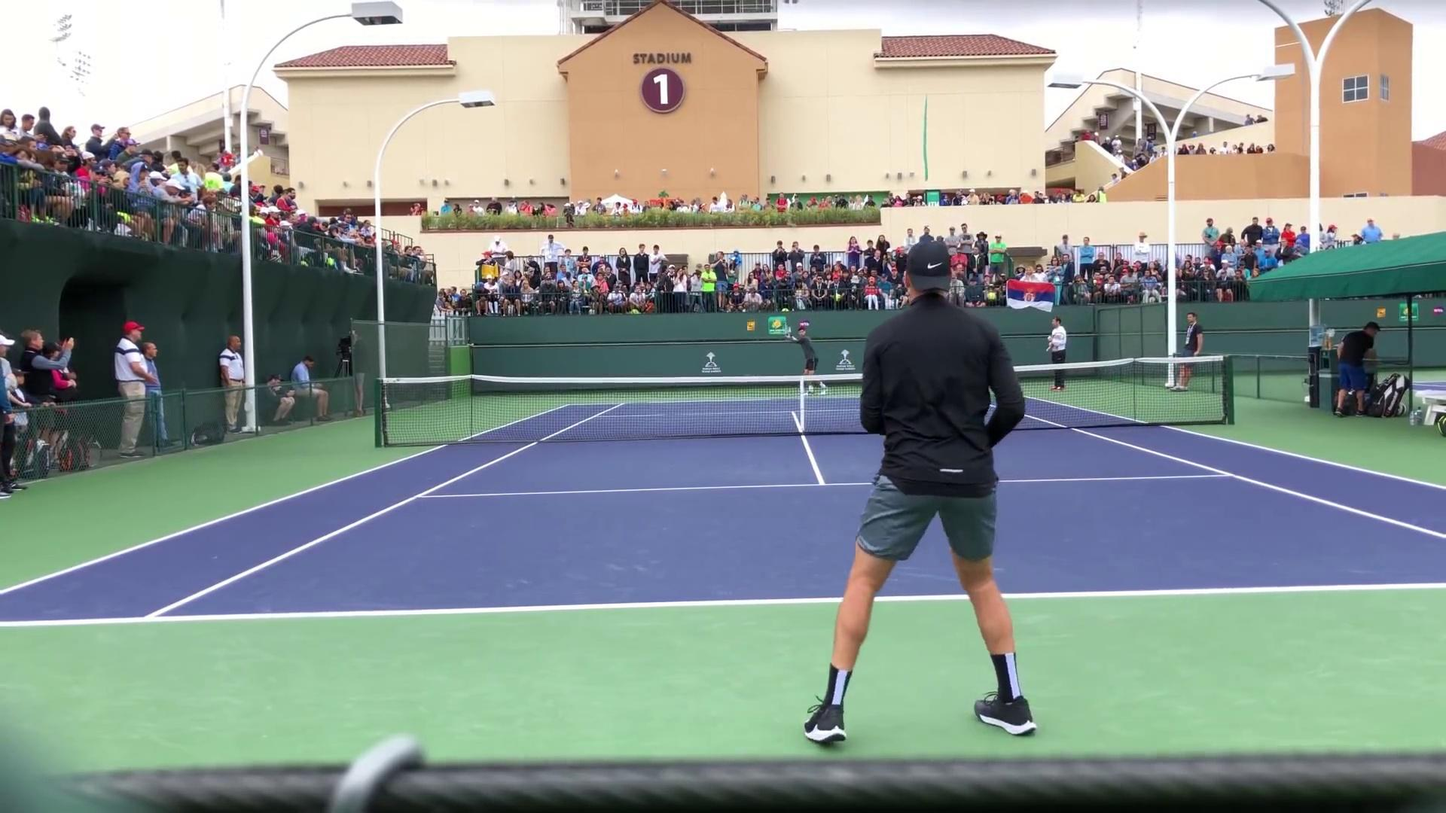ball: (792, 336, 799, 341)
